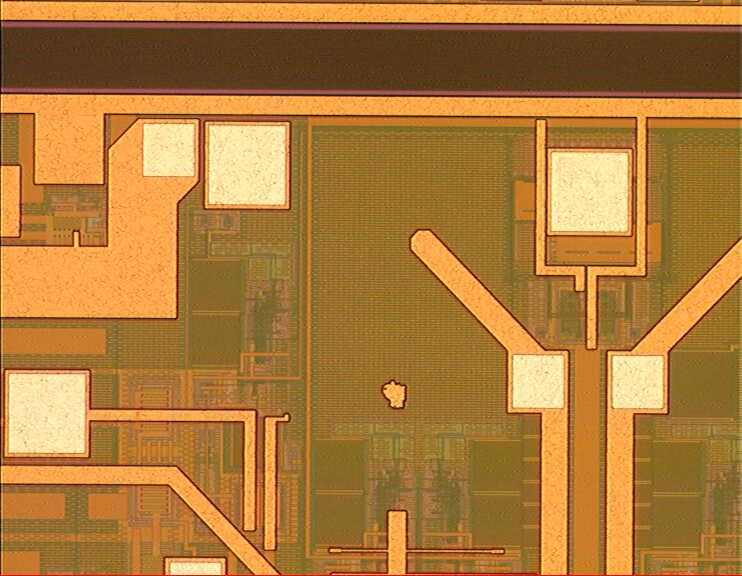BLOCK ETCH: (370, 368, 422, 420)
